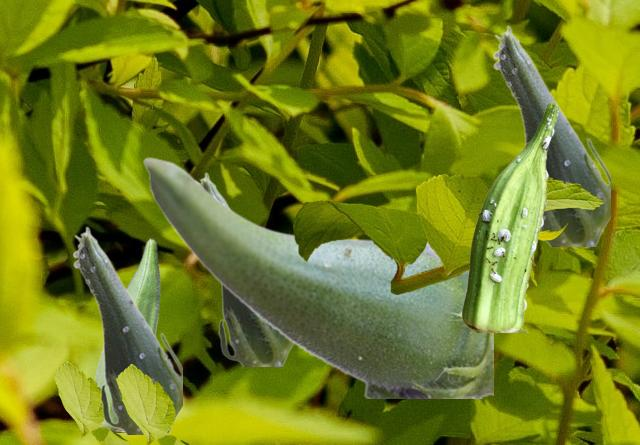okra: (142, 156, 492, 397), (492, 25, 609, 245), (72, 226, 181, 433), (462, 102, 558, 331), (198, 172, 293, 365), (94, 238, 159, 431)
